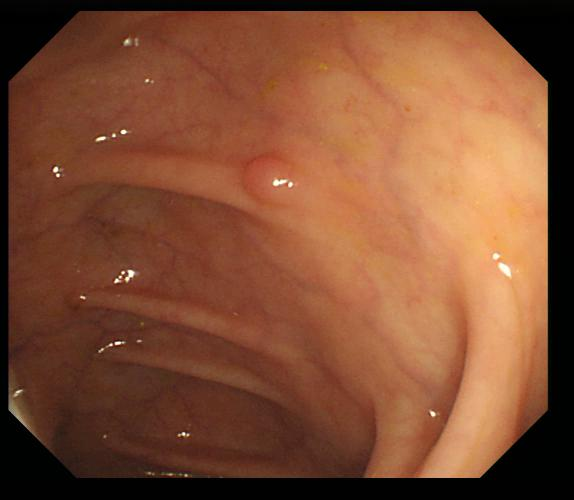polyp: (242, 155, 307, 208)
